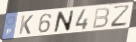4: (74, 8, 90, 31)
6: (38, 13, 53, 34)
B: (91, 6, 111, 30)
K: (18, 14, 35, 36)
N: (52, 10, 75, 34)
Z: (110, 4, 131, 29)
